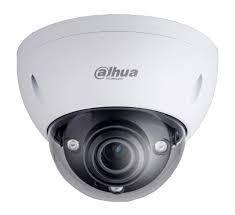CCTV: (18, 16, 218, 202)
